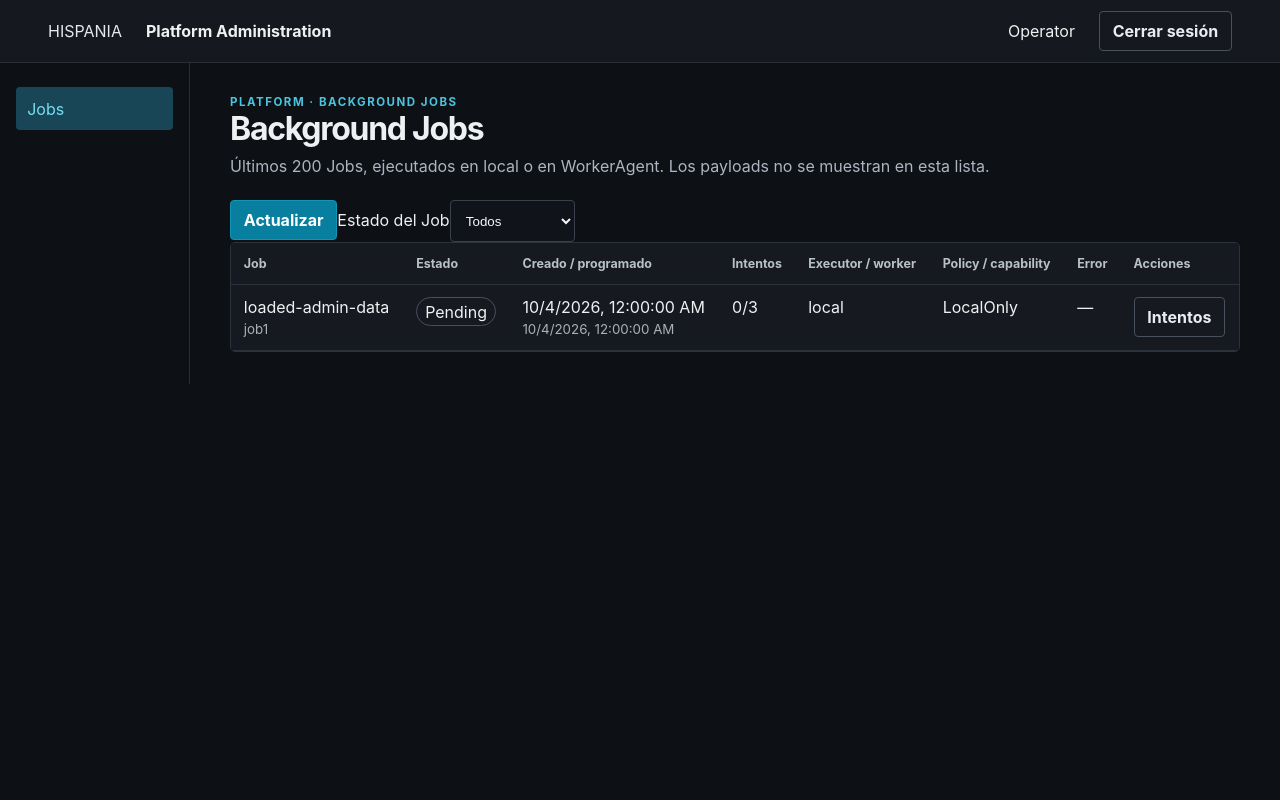
Test case: removes previously loaded administrative data after a refresh returns 401
Expected: the text "loaded-admin-data" is shown, [244,298,389,318]
Click the button "Actualizar".
click(284, 220)  # box [230,200,337,240]
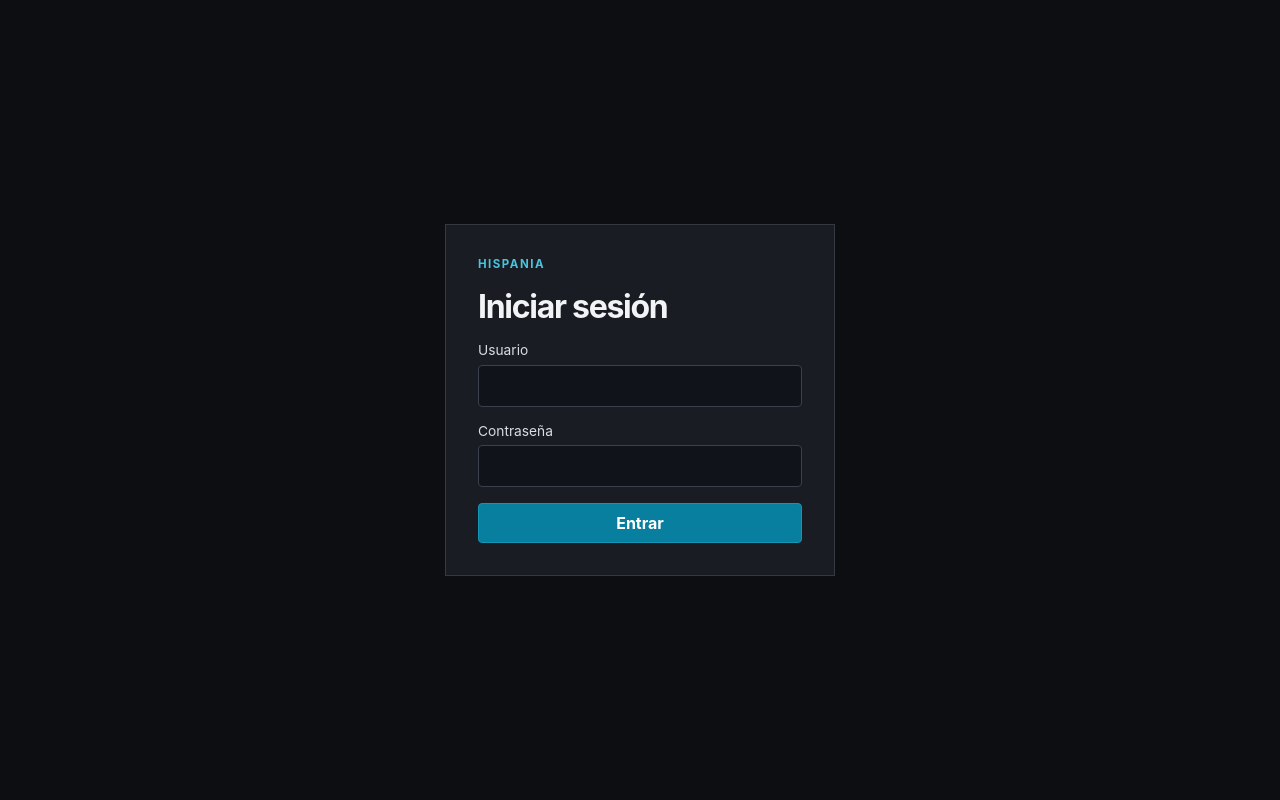
Expected: the heading "Iniciar sesión" is shown, [478,287,668,326]
Expected: the text "loaded-admin-data" is gone
Expected: the navigation bar "Administración" is gone
